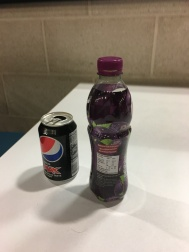bottle_purple: (79, 42, 139, 218)
can_black: (34, 108, 83, 192)
